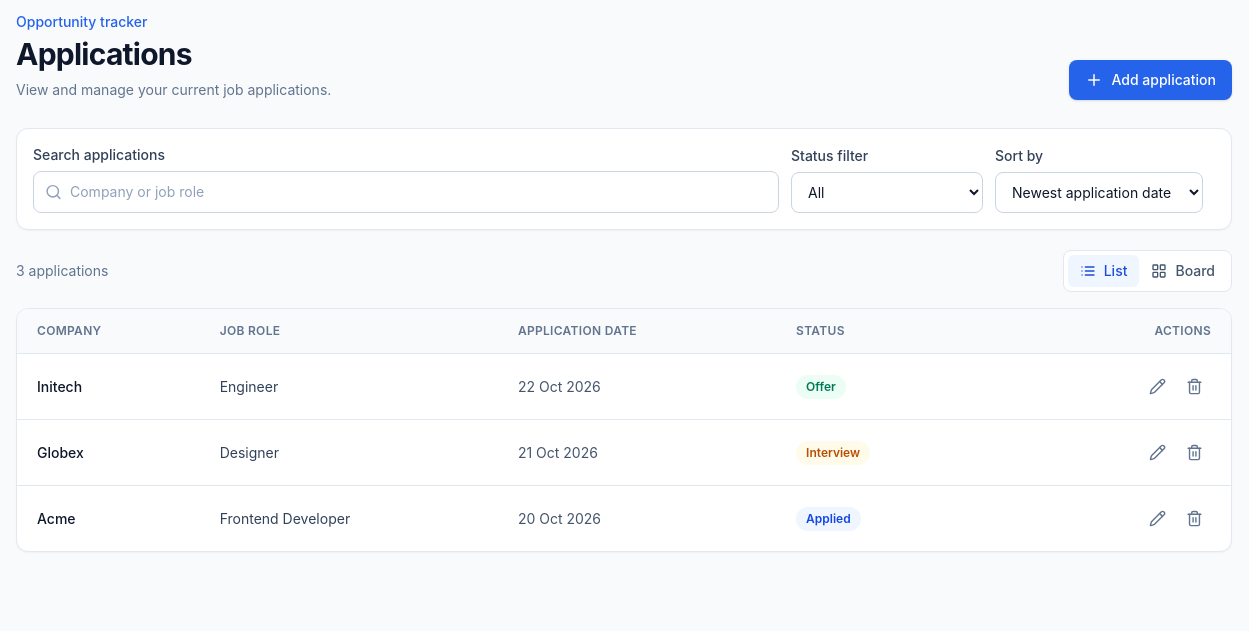
Test case: Applications page › shows a no-results message with a clear-filter action
Type "unknown" into the search field labelled "Search applications". click: (406, 192)
box: [33,171,779,213]
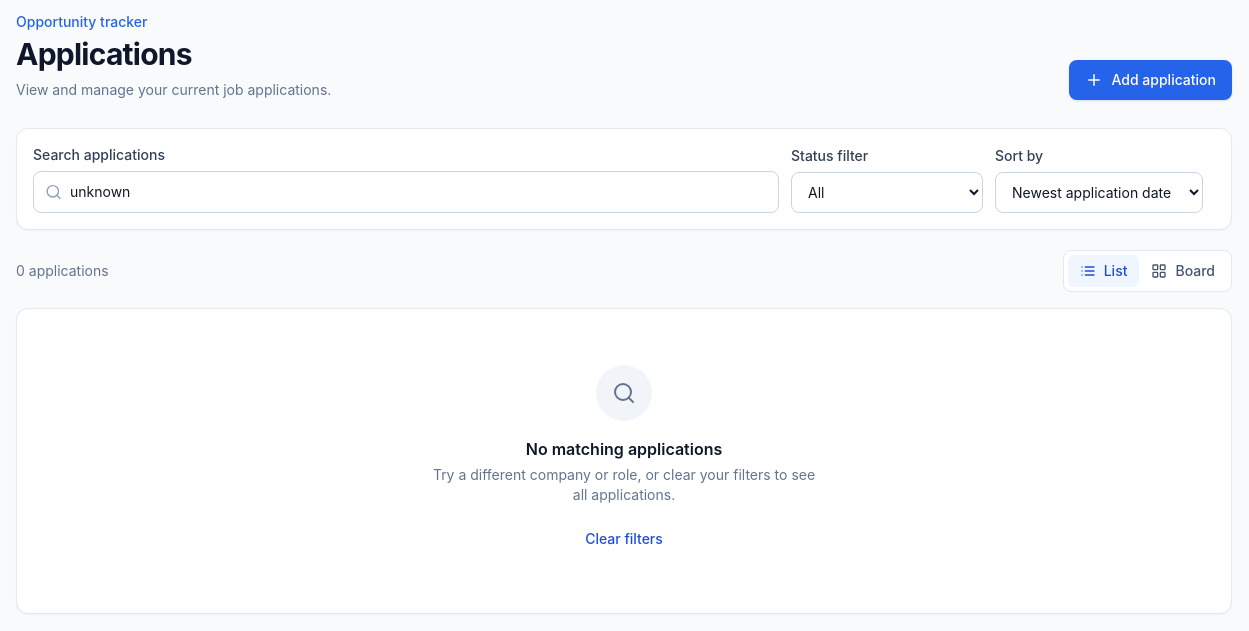
expect the heading "No matching applications" is shown: met, box [526,437,722,461]
Click the button "Clear filters". click: (624, 539)
box: [573,521,675,557]
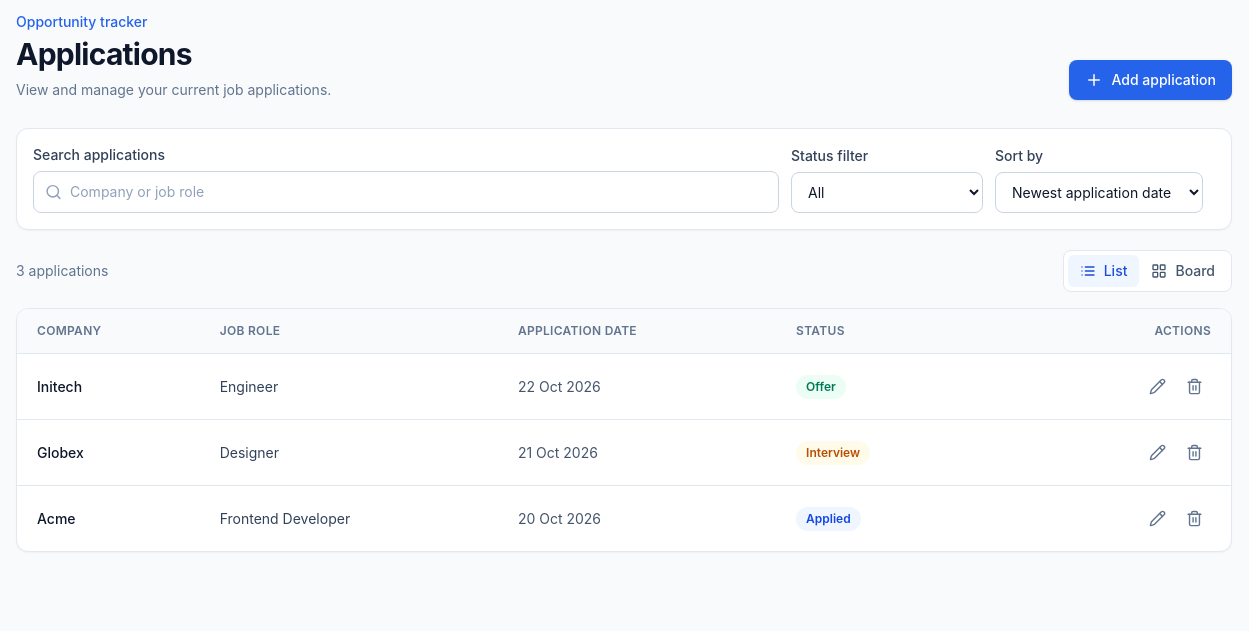
expect the text "3 applications" is shown: met, box [16,261,108,281]
